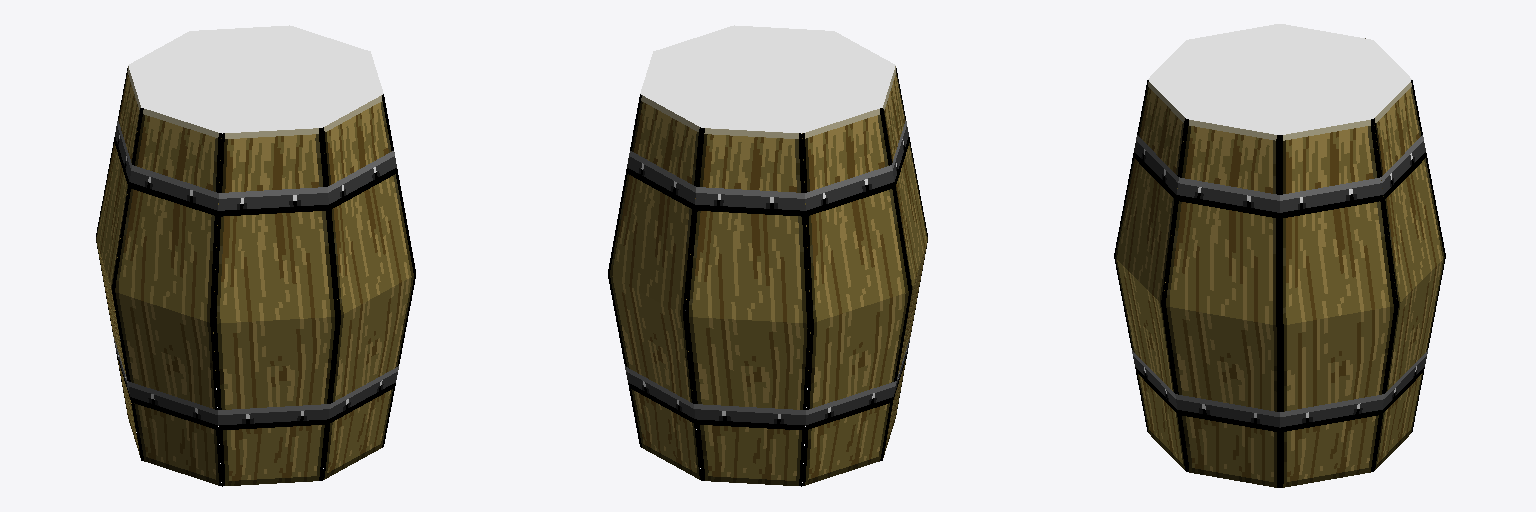
3 views of the same model, side by side, from view 1: azimuth 30°, elevation 25°; view 2: azimuth 150°, elevation 25°; view 3: azimuth 270°, elevation 25° (orthographic).
Parts seen in each view (by area): view 1: polygon2, polygon7, polygon3, polygon8, polygon0; view 2: polygon1, polygon0, polygon6, polygon8, polygon7; view 3: polygon4, polygon5, polygon8, polygon6, polygon3.
Boxes of the visible parts, <box> form: polygon2: <box>213,128,338,486</box>; polygon7: <box>112,108,221,485</box>; polygon3: <box>322,94,415,480</box>; polygon8: <box>128,25,383,133</box>; polygon0: <box>96,66,140,457</box>; polygon1: <box>685,128,810,486</box>; polygon0: <box>802,108,911,485</box>; polygon6: <box>608,94,701,480</box>; polygon8: <box>640,25,895,133</box>; polygon7: <box>883,66,927,457</box>; polygon4: <box>1163,119,1279,487</box>; polygon5: <box>1280,119,1396,487</box>; polygon8: <box>1148,24,1411,134</box>; polygon6: <box>1374,80,1445,470</box>; polygon3: <box>1114,80,1185,470</box>.
Bounding box in the file's own units: 1.02 × 1.2 × 1.02.
Materials: 2 (1 with a texture image).